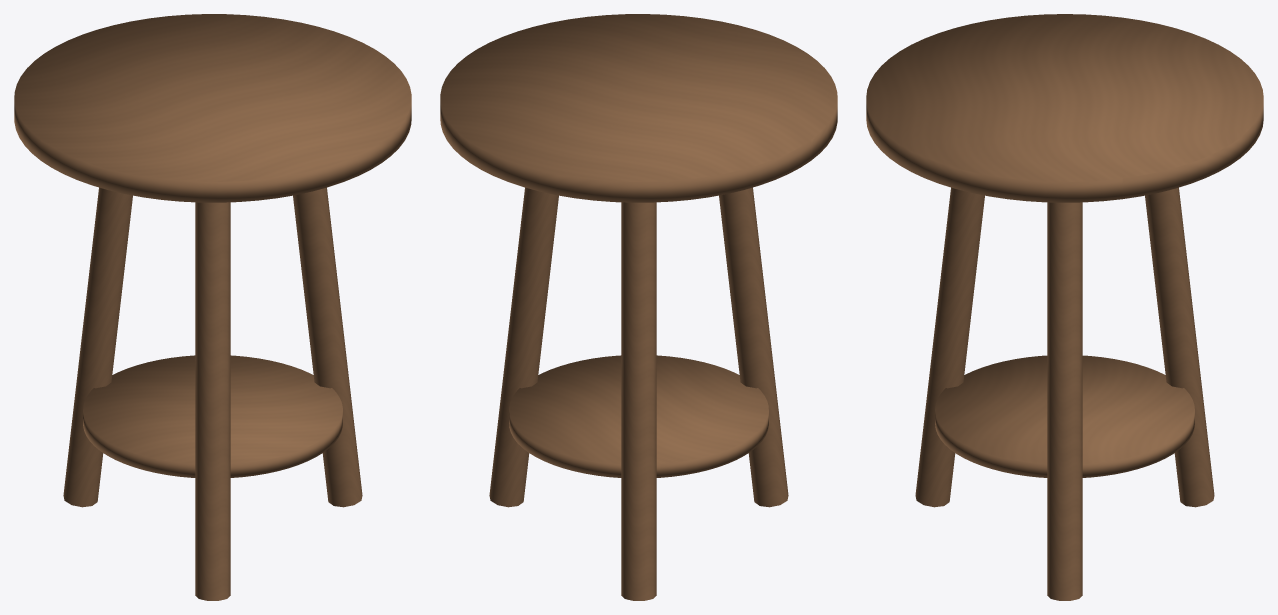
Rendered from guestbook-stand-1.glb.
3 renders of one model, left to right at view 1: azimuth 30°, elevation 25°; view 2: azimuth 150°, elevation 25°; view 3: azimuth 270°, elevation 25°, orthographic.
Parts seen in each view (by area): view 1: Round top, Lower shelf, Splayed leg.002, Splayed leg, Splayed leg.001; view 2: Round top, Lower shelf, Splayed leg.001, Splayed leg, Splayed leg.002; view 3: Round top, Lower shelf, Splayed leg, Splayed leg.001, Splayed leg.002.
Boxes of the visible parts, x1,y1,x2,y2 form: Round top: [14, 14, 411, 202]; Lower shelf: [83, 355, 342, 477]; Splayed leg.002: [195, 202, 230, 600]; Splayed leg: [293, 187, 362, 507]; Splayed leg.001: [63, 187, 132, 507]; Round top: [440, 14, 837, 202]; Lower shelf: [509, 355, 768, 477]; Splayed leg.001: [621, 202, 656, 600]; Splayed leg: [489, 187, 558, 507]; Splayed leg.002: [719, 187, 788, 507]; Round top: [866, 14, 1263, 202]; Lower shelf: [935, 355, 1194, 477]; Splayed leg: [1047, 202, 1082, 600]; Splayed leg.001: [1145, 187, 1214, 507]; Splayed leg.002: [915, 187, 984, 507].
Bounding box in the file's own units: 0.52 × 0.6276 × 0.52.
1 material, 1 textured.
